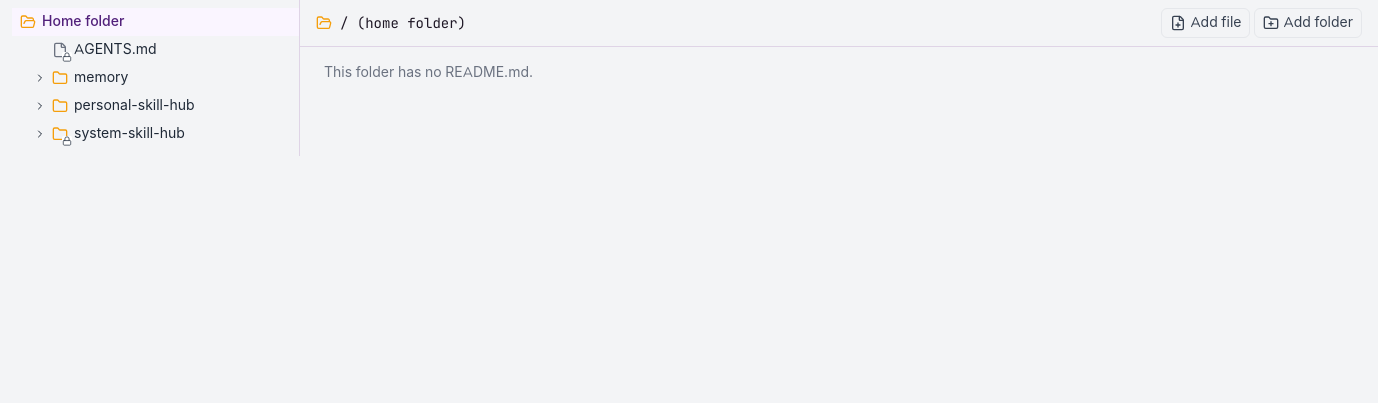
Test: HomeFolderBrowser › edits and saves a text file, and shows what a later read returns
The width and height of the screenshot is (1378, 403).
Click the button "memory": point(101, 78) [12,64,299,92]
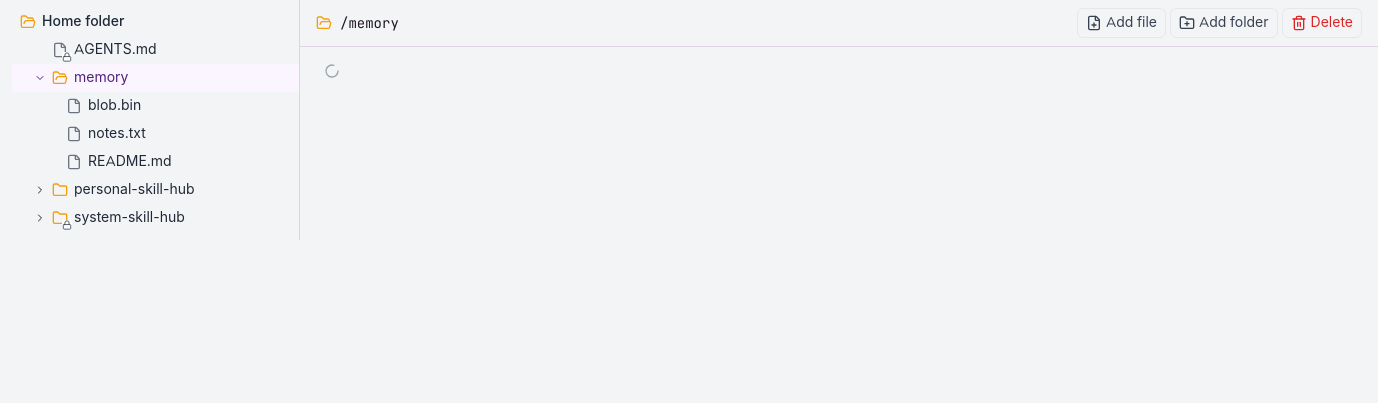
Click the button "notes.txt": point(117, 134) [12,120,299,148]
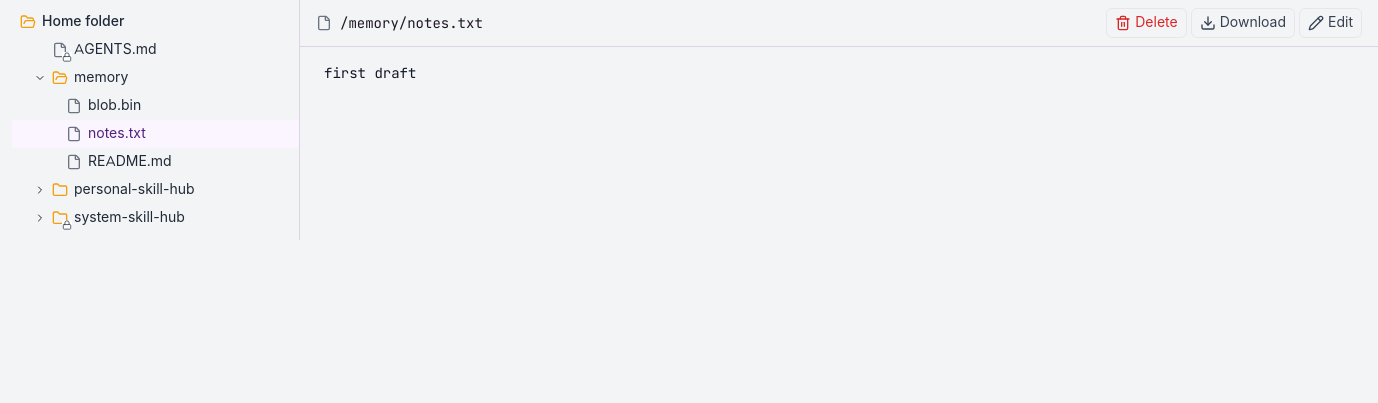
Check: the text "first draft" is shown, box [324,64,416,82]
Click the button "Edit": point(1330, 23) [1299,8,1362,38]
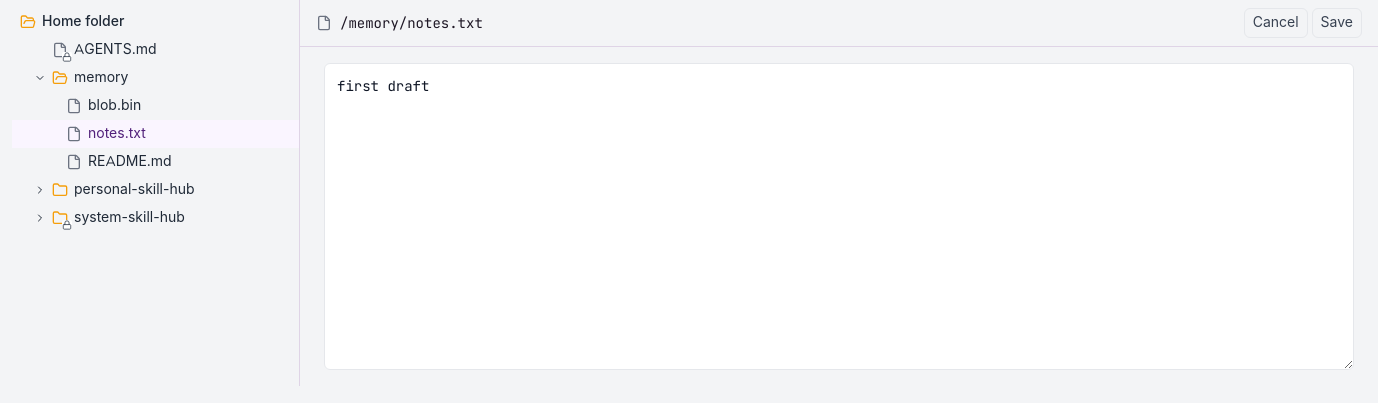
Replace the text in the text box named "Edit notes.txt" with "second draft": point(839, 216) [324,63,1354,370]
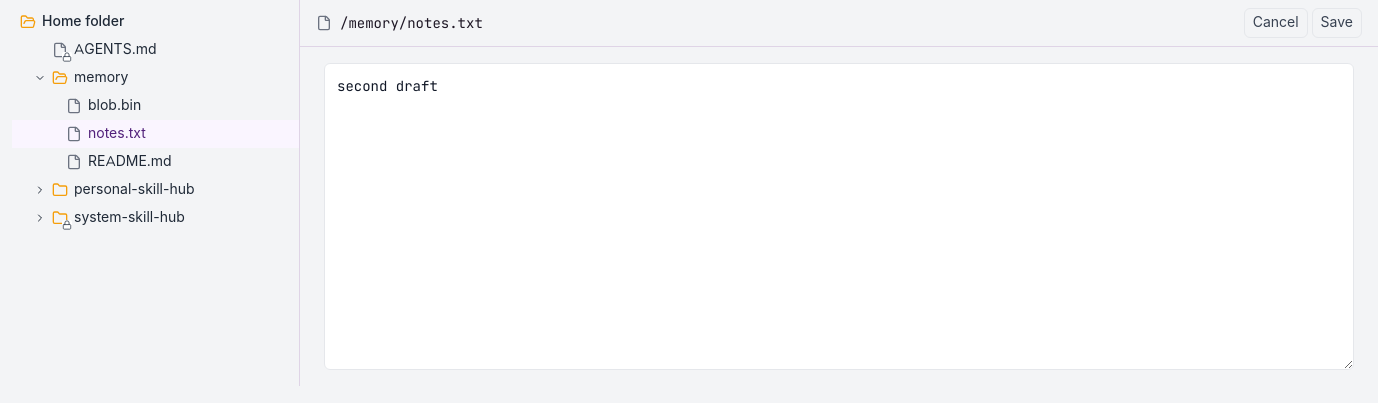
Click the button "Save": point(1337, 23) [1312,8,1362,38]
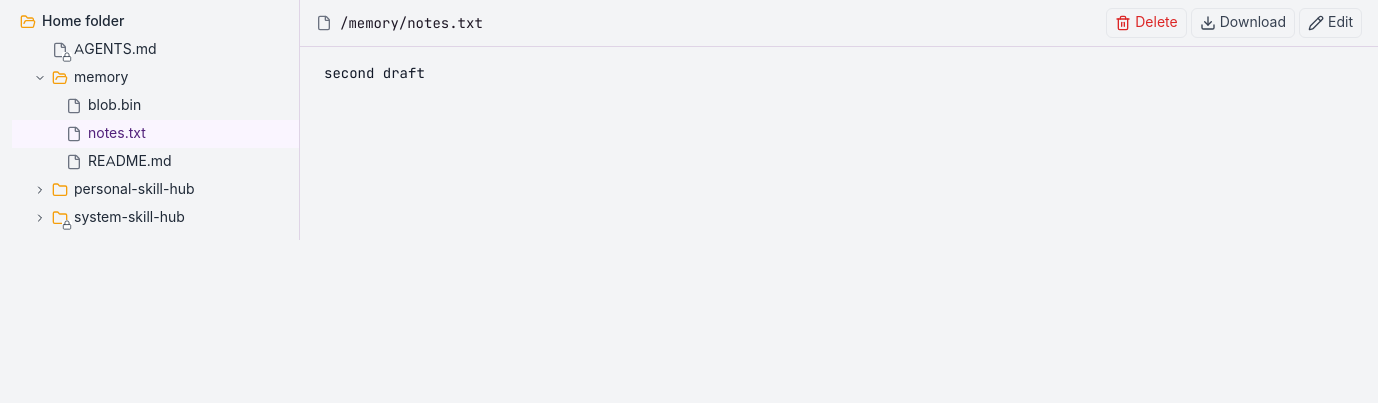
Check: the text "second draft" is shown, box [324,64,425,82]
